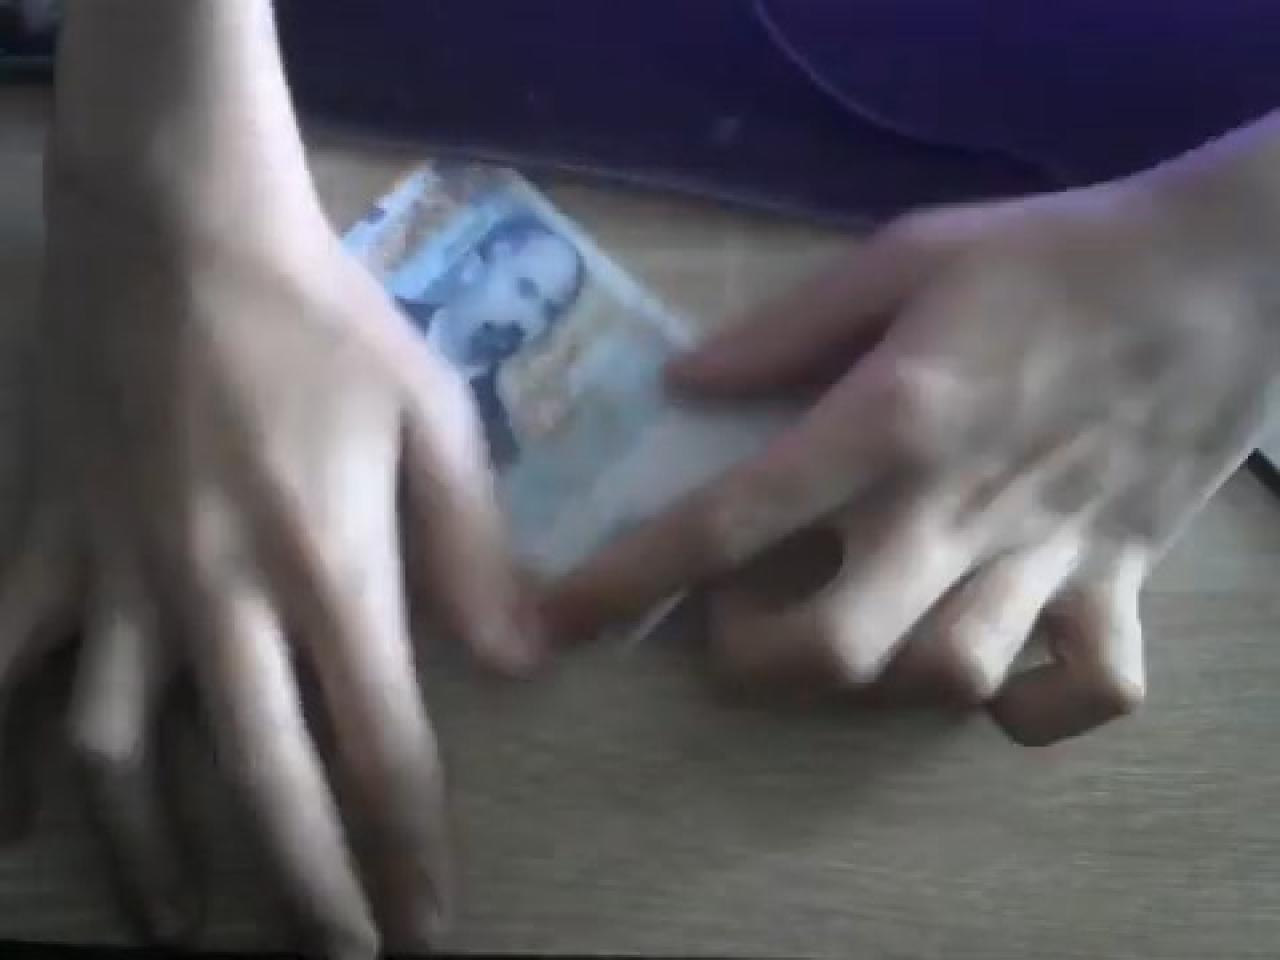20leva: (350, 160, 800, 608)
